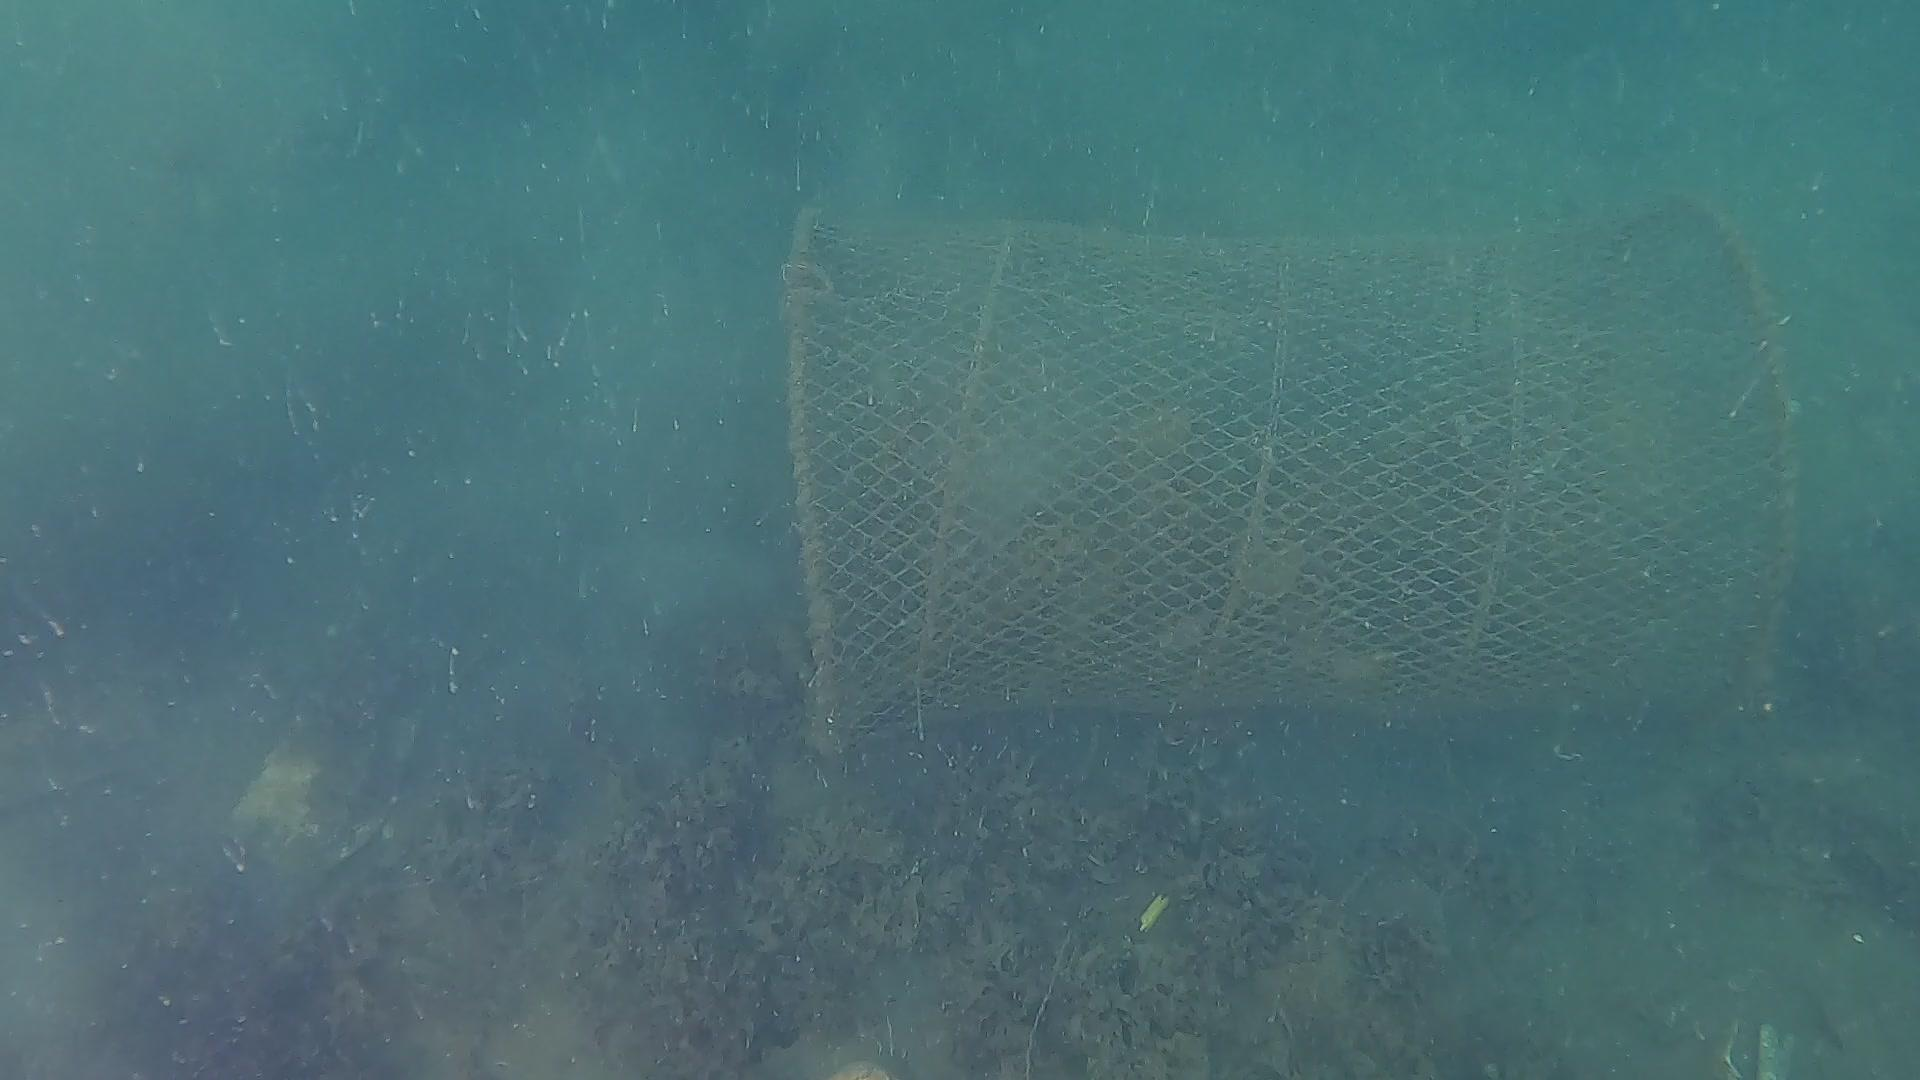spring fish trap: (783, 200, 1792, 746)
